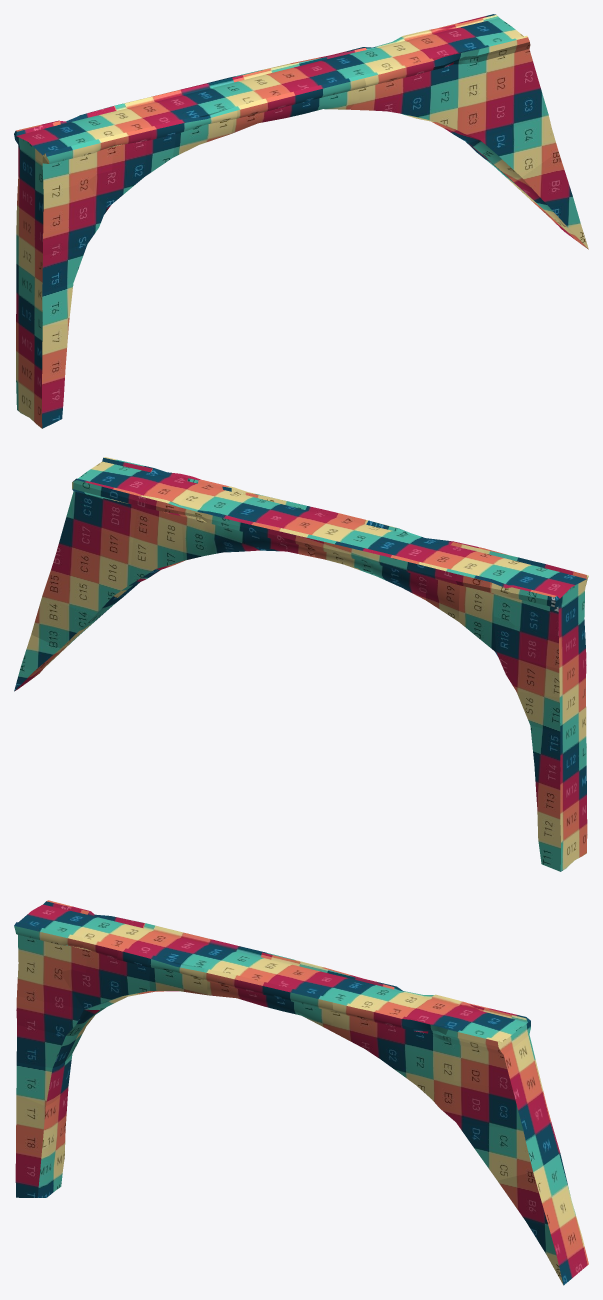
The model's file is bridge_low_03.FBX.
The picture shows the model from 3 angles, top to bottom: view 1: azimuth 30°, elevation 25°; view 2: azimuth 150°, elevation 25°; view 3: azimuth 330°, elevation 25°; orthographic projection.
Parts seen in each view (by area): view 1: polySurface1; view 2: polySurface1; view 3: polySurface1.
Part boxes in pixels (box(x1,y1,x2,y2)): polySurface1: box(14, 14, 588, 428); polySurface1: box(14, 457, 588, 871); polySurface1: box(14, 900, 588, 1285).
Bounding box in the file's own units: 3.42 × 1.66 × 0.3748.
